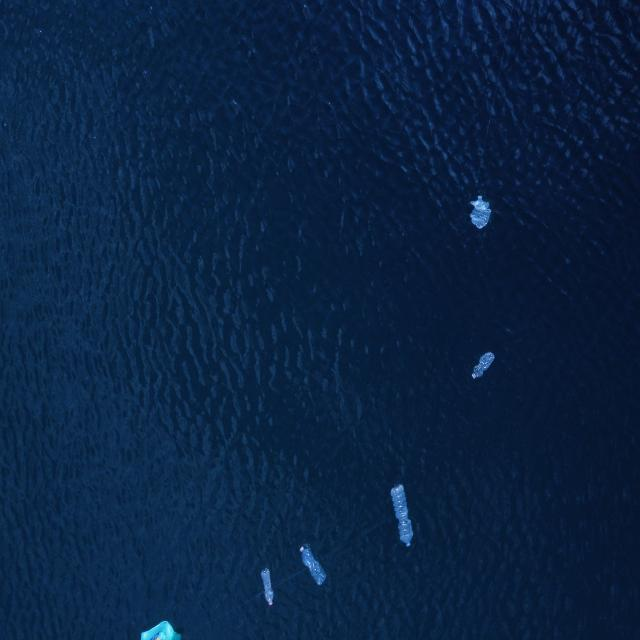bottles: (386, 476, 416, 557), (296, 539, 333, 593), (467, 341, 502, 388), (466, 187, 494, 237), (257, 562, 281, 616)
